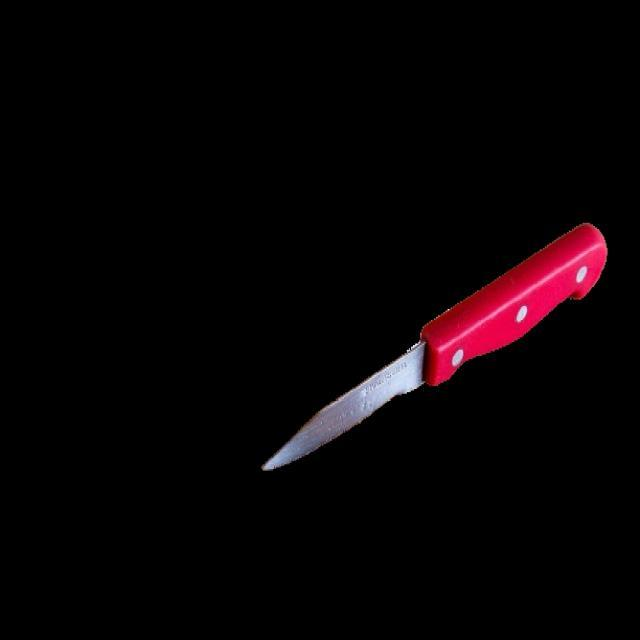knife: (266, 207, 612, 466)
